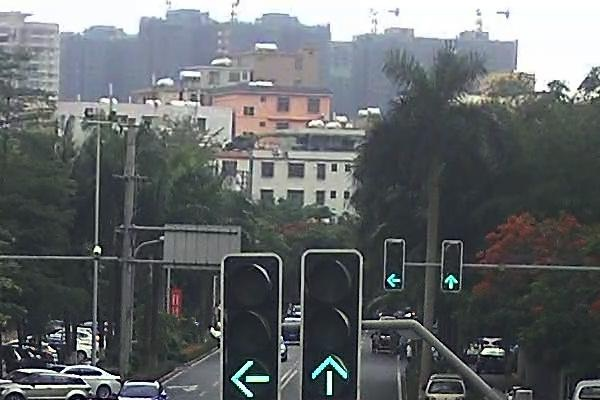greenleft: (225, 358, 277, 400), (385, 272, 403, 289)
greenstraight: (305, 354, 353, 398), (442, 274, 459, 291)
